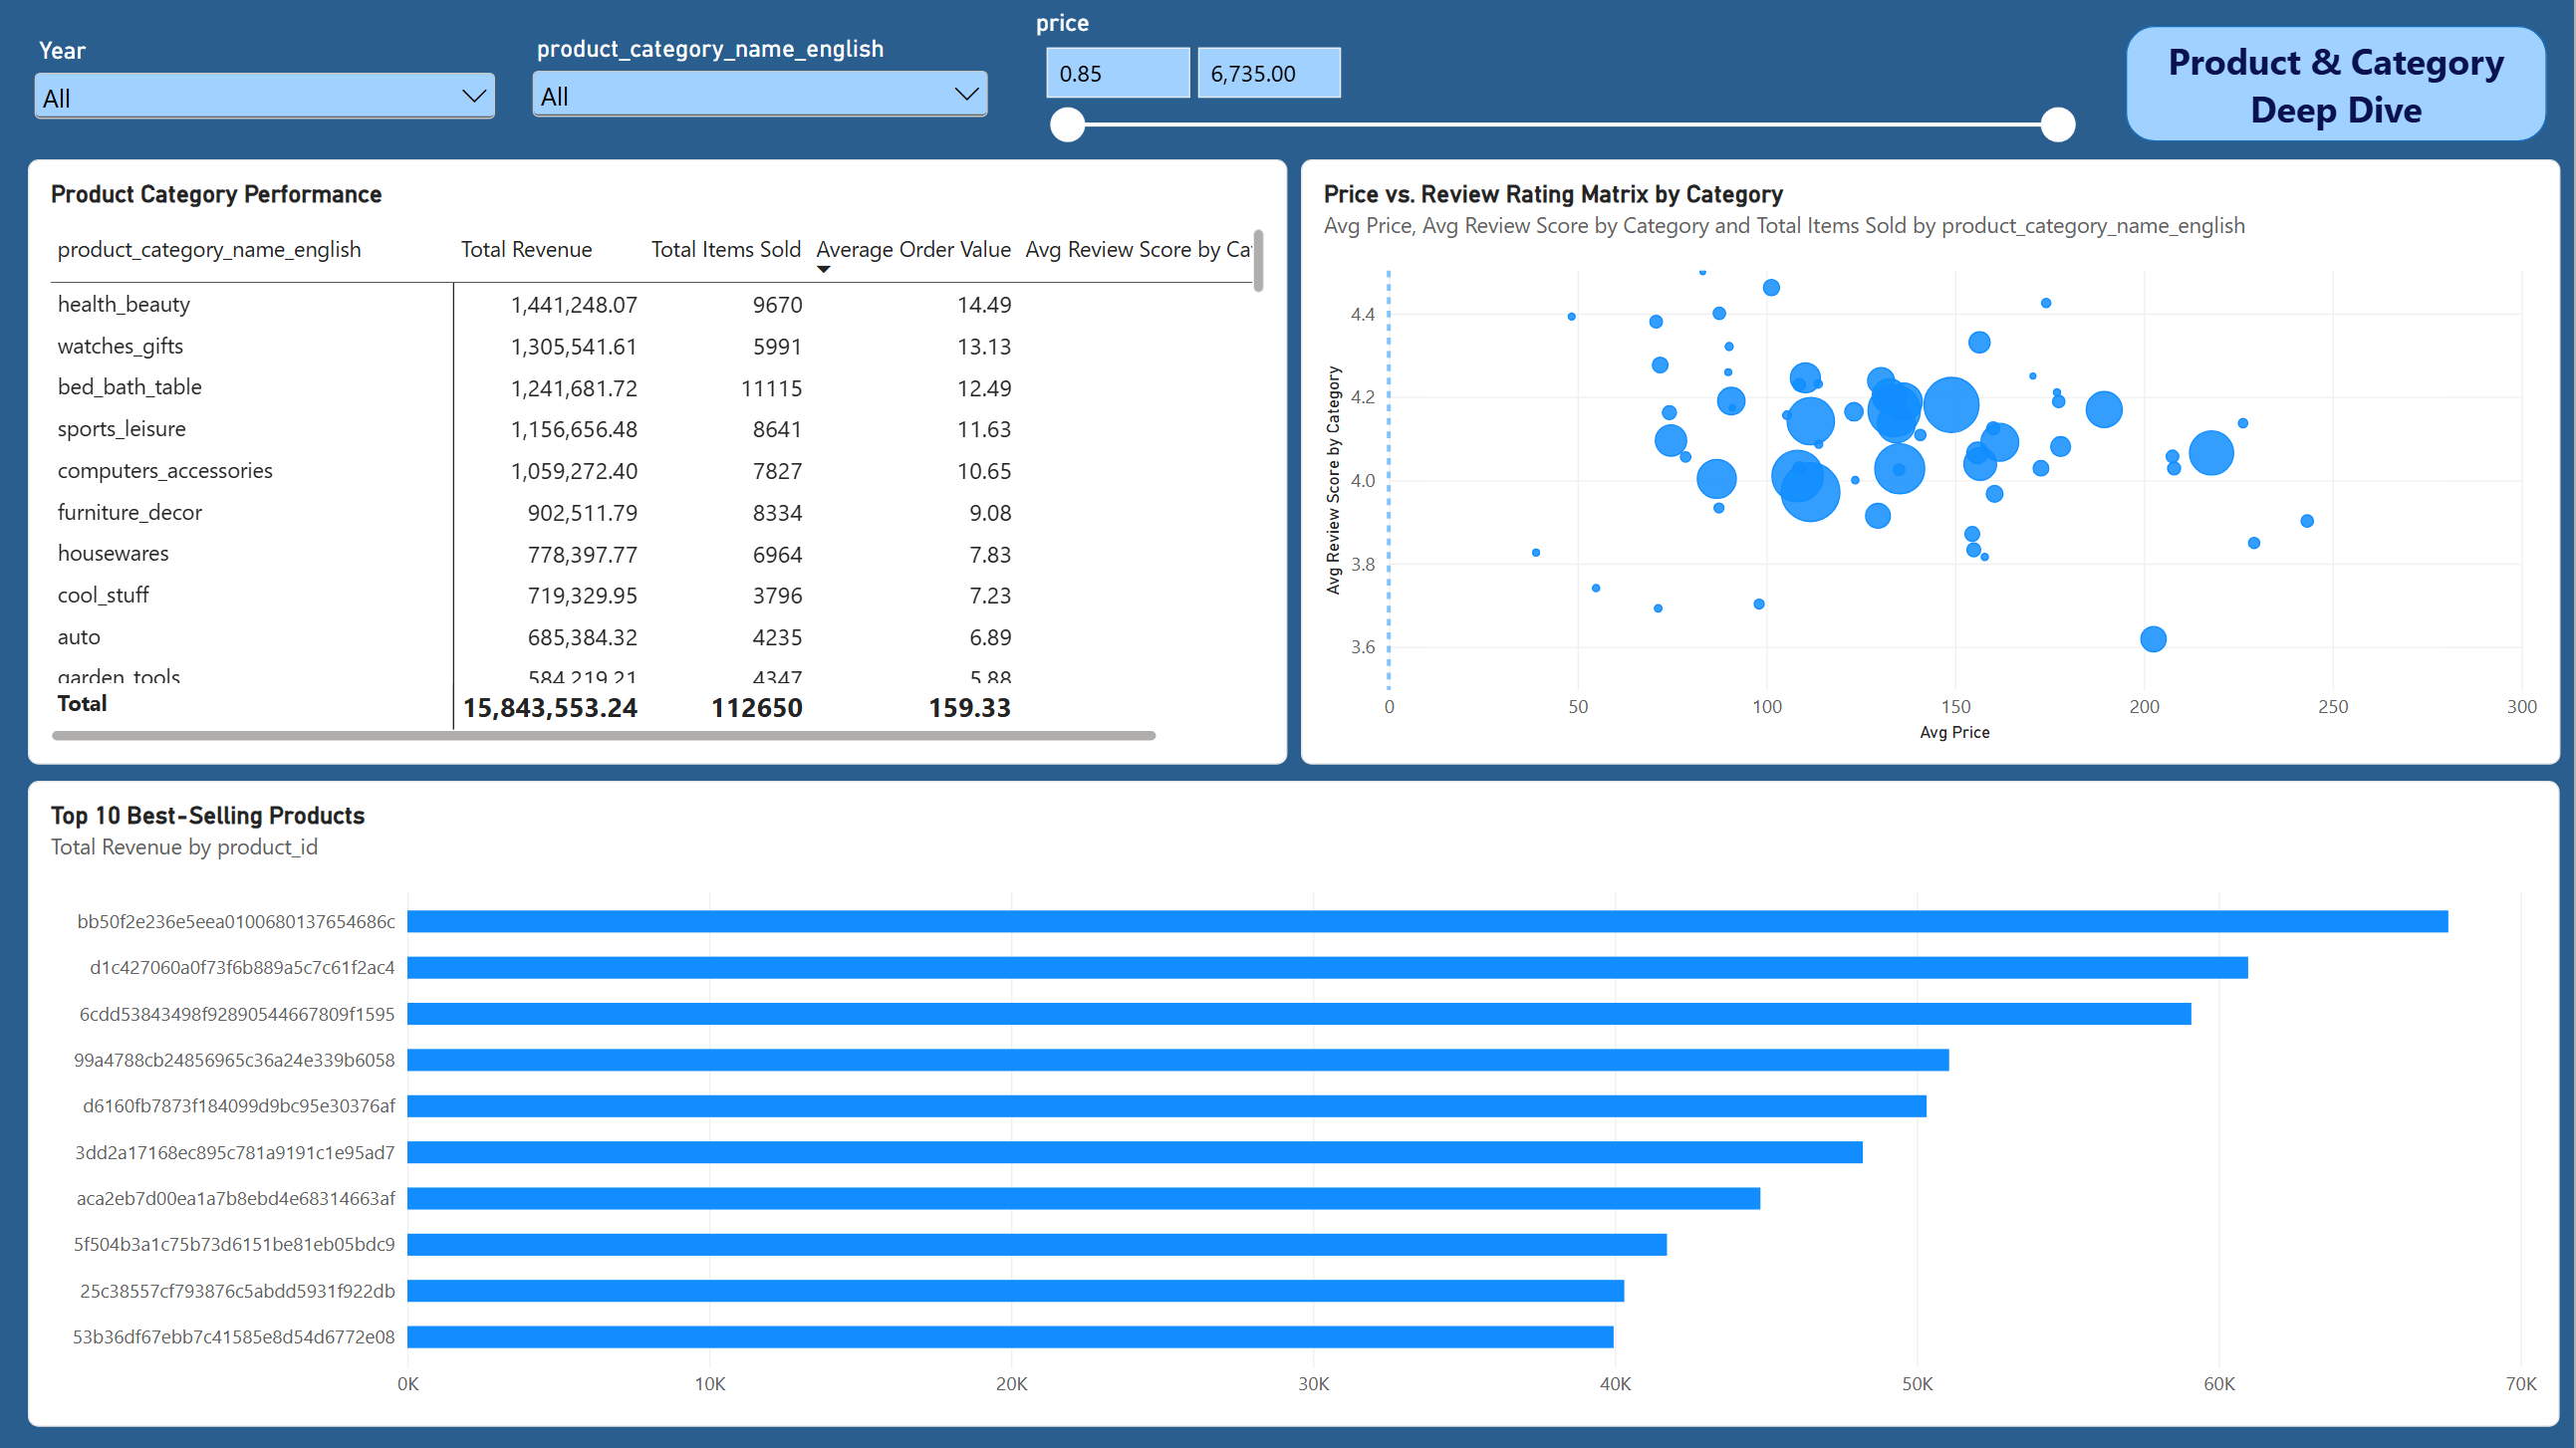

The dashboard page shown, as its layout file describes it:
{"tool":"powerbi","page":{"name":"Product & Category Deep Dive","canvas":[1920,1080],"ordinal":2},"visuals":[{"type":"pivotTable","title":"Product Category Performance","fields":{"Rows":["olist_products_dataset.product_category_name_english"],"Values":["Measure.Total Revenue","Measure.Total Items Sold","Measure.Average Order Value","Measure.Avg Review Score by Category"]},"box":[21.1,119.1,939.4,451.3],"z":0},{"type":"clusteredBarChart","title":"Top 10 Best-Selling Products","fields":{"Category":["olist_products_dataset.product_id"],"Y":["Measure.Total Revenue"]},"box":[21.1,582,1888.4,481.8],"z":1000},{"type":"scatterChart","title":"Price vs. Review Rating Matrix by Category","fields":{"Category":["olist_products_dataset.product_category_name_english"],"Size":["Measure.Total Items Sold"],"X":["Measure.Avg Price"],"Y":["Measure.Avg Review Score by Category"]},"box":[970,119.1,939.4,451.3],"z":2000},{"type":"slicer","fields":{"Values":["olist_products_dataset.product_category_name_english"]},"box":[391.7,24.5,349.4,74.6],"z":3000},{"type":"slicer","title":"price","fields":{"Values":["olist_order_items_dataset.price"]},"box":[772.5,5.9,778.4,110.9],"z":4000},{"type":"slicer","title":"Year","fields":{"Values":["DateTable.Year"]},"box":[20.6,26.5,353.4,74.6],"z":5000},{"type":"shape","box":[1586.3,18.7,314.1,86.4],"z":6000}]}

Visuals, with their boxes in screenshot pixels (x1, y1, x2, y2), scaled from the page's 1920x1080 canvas onto the 2576x1448 screenshot:
"Product Category Performance" pivotTable: <bbox>28, 159, 1289, 765</bbox>
"Top 10 Best-Selling Products" clusteredBarChart: <bbox>28, 781, 2562, 1426</bbox>
"Price vs. Review Rating Matrix by Category" scatterChart: <bbox>1301, 159, 2562, 765</bbox>
slicer - olist_products_dataset.product_category_name_english: <bbox>526, 33, 994, 132</bbox>
"price" slicer: <bbox>1036, 8, 2081, 156</bbox>
"Year" slicer: <bbox>28, 36, 502, 135</bbox>
shape: <bbox>2129, 25, 2550, 140</bbox>
